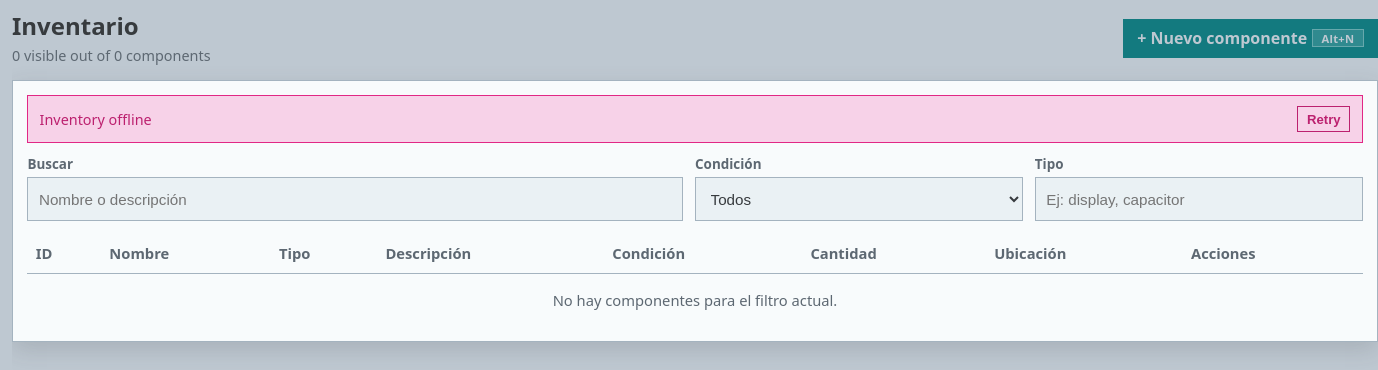
Test: InventoryComponent › should show load error and recover after retry
Step 1. Click the button with class "btn-inline" → (1324,119), box [1297,106,1350,132]
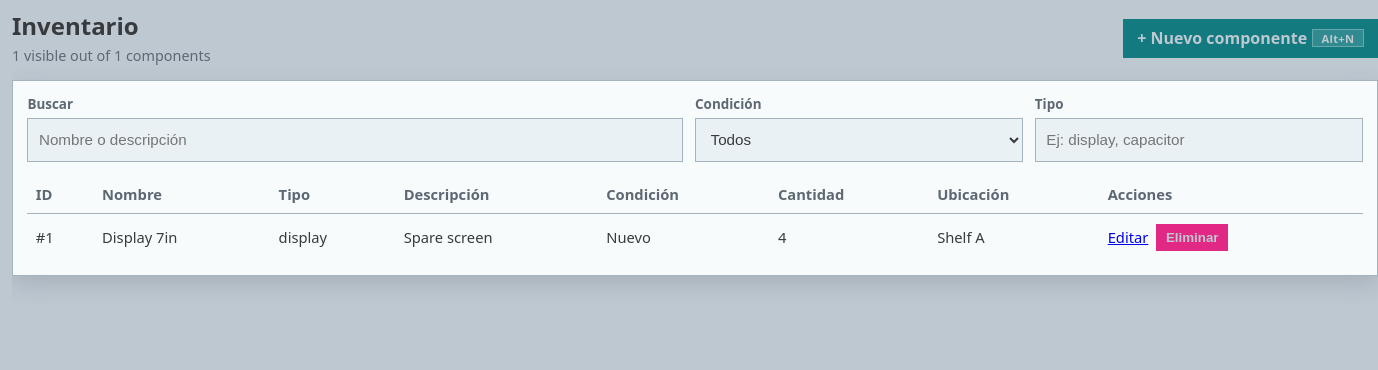
Check: the text "Display 7in" is shown, box [94,214,270,260]
